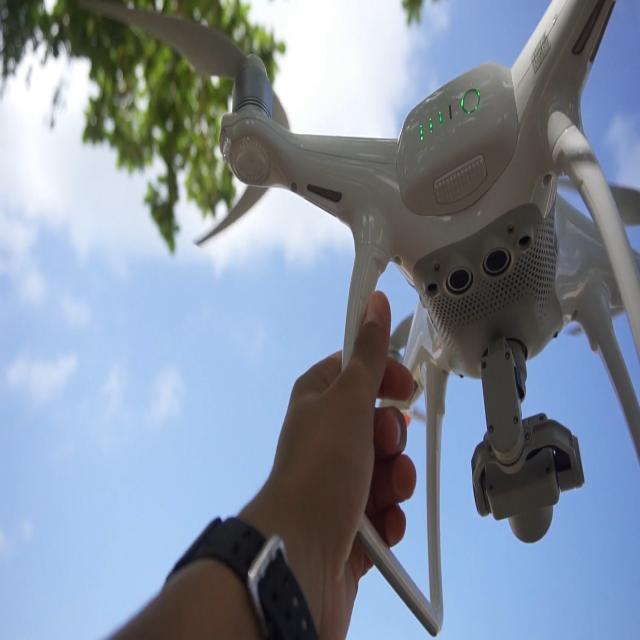Drone: (218, 3, 640, 640)
